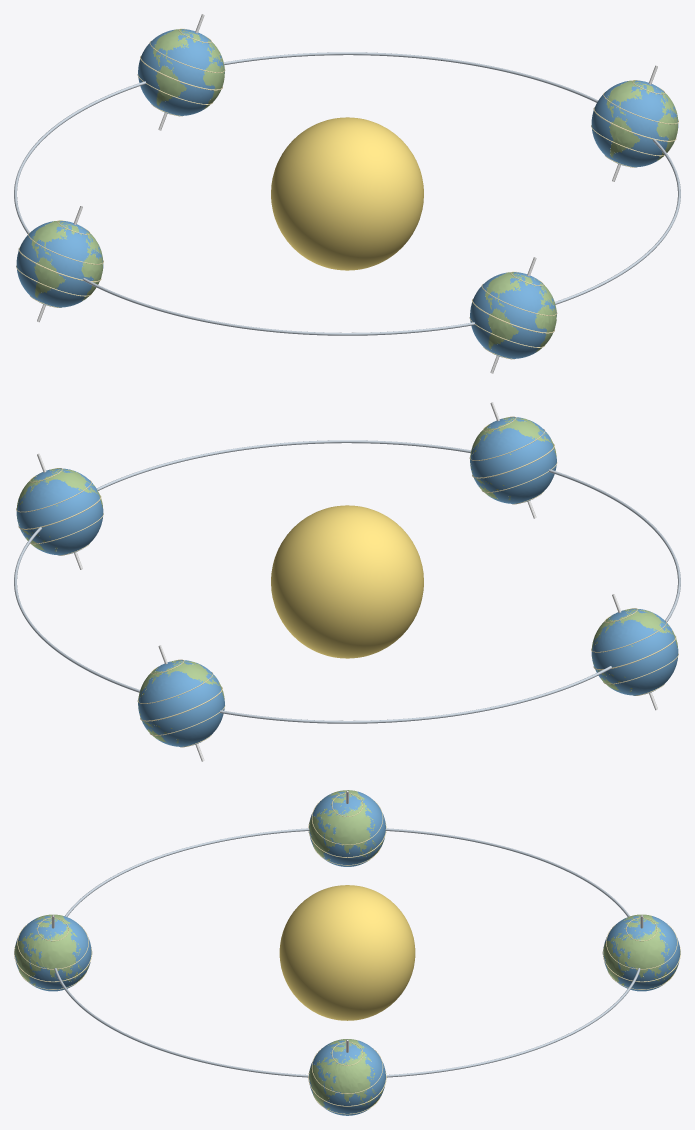
The model's file is seasons.glb.
The picture shows the model from 3 angles, top to bottom: view 1: azimuth 30°, elevation 25°; view 2: azimuth 150°, elevation 25°; view 3: azimuth 270°, elevation 25°; orthographic projection. The views are drawn at different scales.
Visible parts, largest first — view 1: sun, land, orbit, earth_september, earth_june, earth_march, earth_december, lines, axis; view 2: sun, earth_march, earth_september, earth_june, earth_december, orbit, land, lines, axis; view 3: sun, land, orbit, earth_december, earth_june, earth_september, earth_march, lines.
Part boxes in pixels (x1,y1,x2,y2): sun: (271, 117, 423, 270); land: (31, 29, 678, 354); orbit: (14, 52, 680, 335); earth_september: (470, 272, 556, 358); earth_june: (16, 221, 103, 307); earth_march: (138, 29, 224, 115); earth_december: (591, 80, 678, 167); lines: (16, 28, 678, 359); axis: (37, 14, 657, 373); sun: (271, 505, 423, 658); earth_march: (138, 660, 224, 746); earth_september: (470, 417, 556, 503); earth_june: (591, 609, 678, 695); earth_december: (16, 468, 103, 555); orbit: (14, 440, 680, 723); land: (16, 417, 677, 743); lines: (16, 416, 678, 747); axis: (37, 402, 657, 761); sun: (279, 885, 415, 1020); land: (15, 790, 678, 1109); orbit: (54, 828, 640, 1077); earth_december: (309, 1040, 385, 1115); earth_june: (309, 791, 385, 866); earth_september: (14, 916, 91, 991); earth_march: (603, 916, 680, 991); lines: (14, 793, 680, 1114).
Bounding box in the file's own units: 0.2944 × 0.06 × 0.2946.
